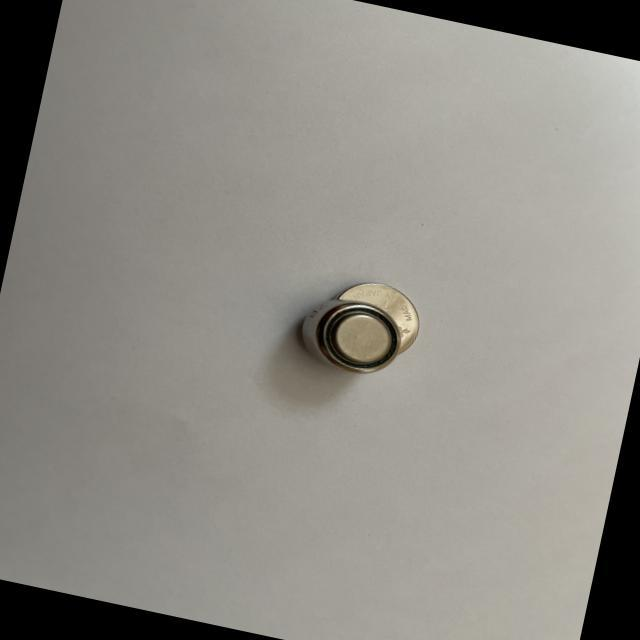COIN: (292, 289, 403, 382), (322, 274, 426, 362)
